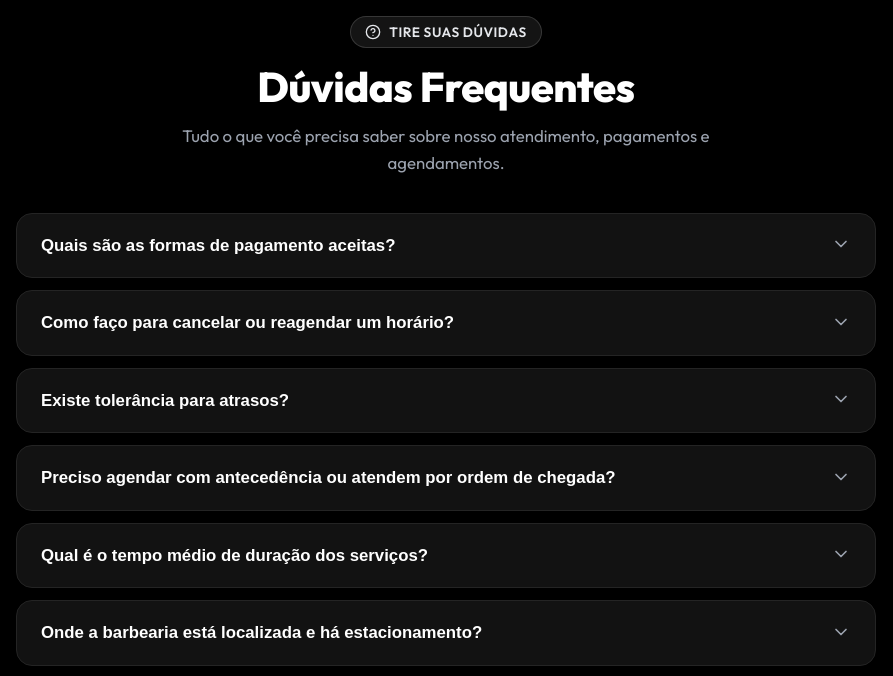
Scenario: FAQ Component (TDD) › deve expandir e recolher a resposta ao clicar em uma pergunta
Expected: the text "Aceitamos Pix, Cartões de Débito/Crédito e Dinheiro" is not shown
Note: Clica para abrir
Click the button "Quais são as formas de pagamento aceitas?" at (218, 245), box [17, 214, 875, 277]
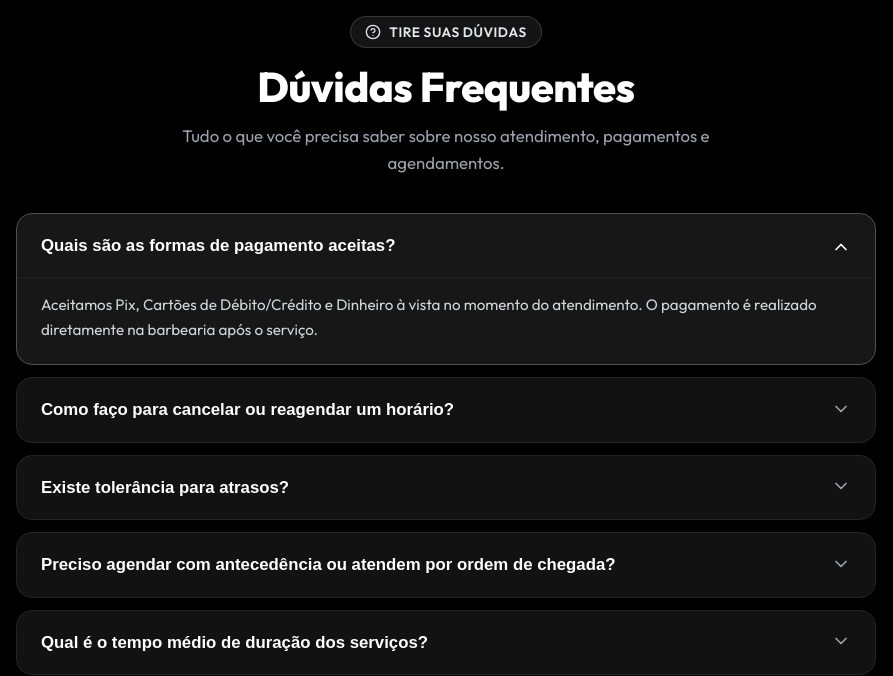
Expected: the text "Aceitamos Pix, Cartões de Débito/Crédito e Dinheiro" is shown, [41, 295, 817, 339]
Note: Clica novamente para fechar
Click the button "Quais são as formas de pagamento aceitas?" at (218, 245), box [17, 214, 875, 277]
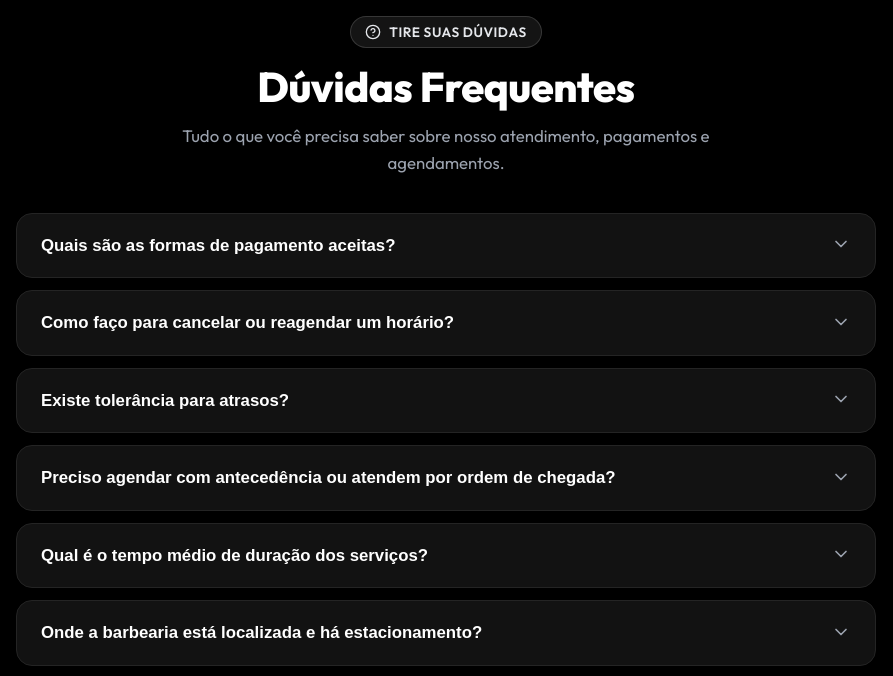
Expected: the text "Aceitamos Pix, Cartões de Débito/Crédito e Dinheiro" is gone
